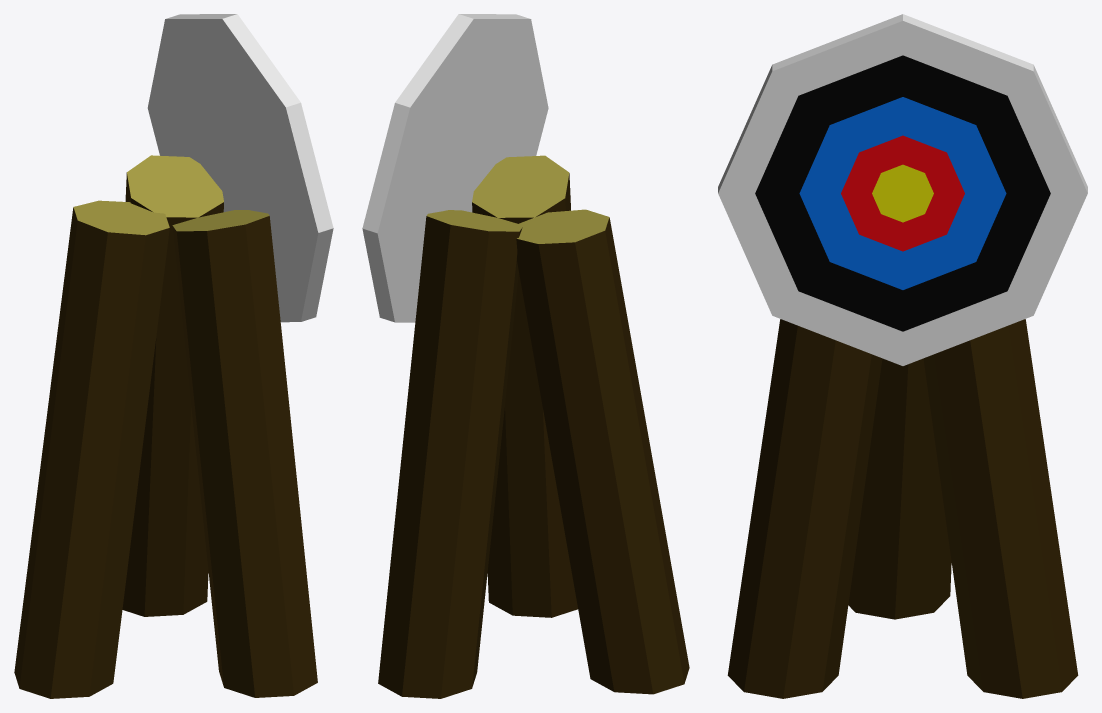
The model's file is Target_last.glb.
The picture shows the model from 3 angles, left to right: view 1: azimuth 30°, elevation 25°; view 2: azimuth 150°, elevation 25°; view 3: azimuth 270°, elevation 25°; orthographic projection. The views are drawn at different scales.
Parts seen in each view (by area): view 1: Cylinder, Cylinder.001, Circle; view 2: Cylinder, Cylinder.001, Circle; view 3: Circle, Cylinder, Cylinder.001.
Boxes of the visible parts, x1=… form: Cylinder: x1=122, y1=155, x2=317, y2=697; Cylinder.001: x1=14, y1=200, x2=169, y2=698; Circle: x1=147, y1=14, x2=333, y2=322; Cylinder: x1=378, y1=155, x2=577, y2=698; Cylinder.001: x1=516, y1=209, x2=689, y2=694; Circle: x1=362, y1=14, x2=548, y2=322; Circle: x1=718, y1=14, x2=1087, y2=365; Cylinder: x1=727, y1=319, x2=1078, y2=698; Cylinder.001: x1=848, y1=358, x2=951, y2=619.
Bounding box in the file's own units: 0.4111 × 0.9983 × 0.5.
